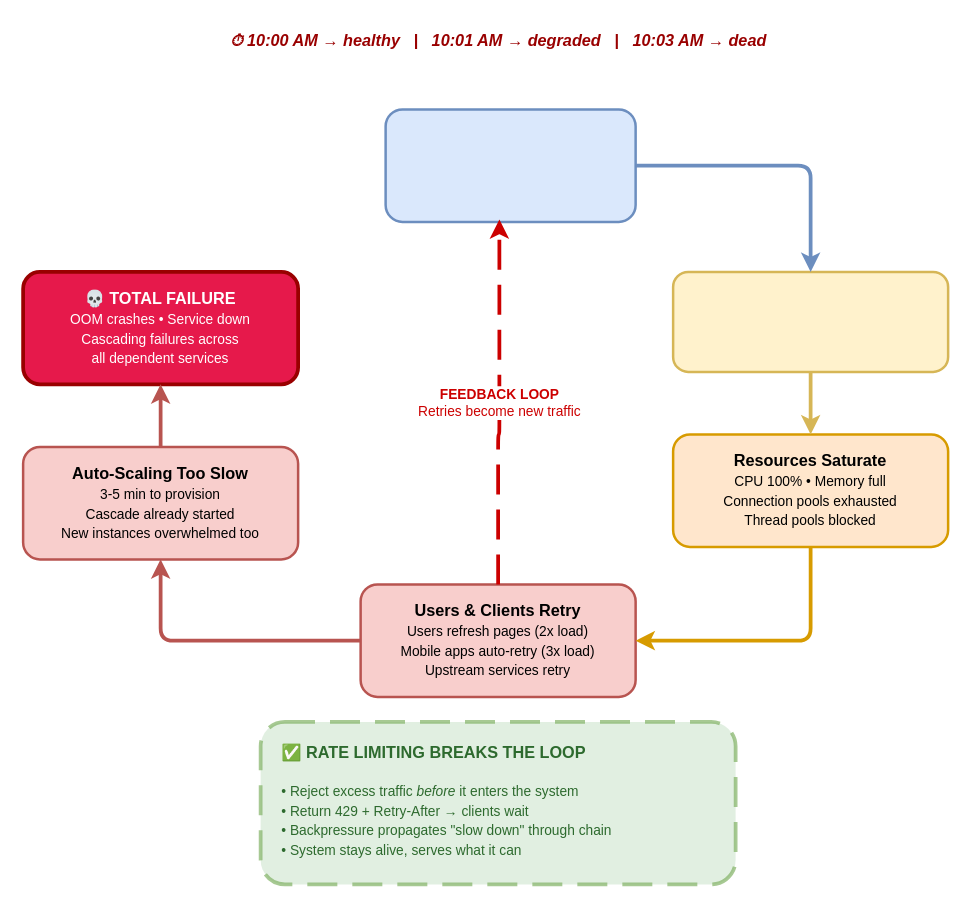
This 971x908 diagram has some shape labels left out. The box of each missing label's shape, as (x1, y1, x2, y2) in pixels:
Response Times Climb 200ms → 2s → 10s → 45s Requests hold resources longer: (671, 270, 949, 372)
Traffic Spike 10x normal load (Black Friday, viral post, marketing campaign): (384, 108, 636, 222)
